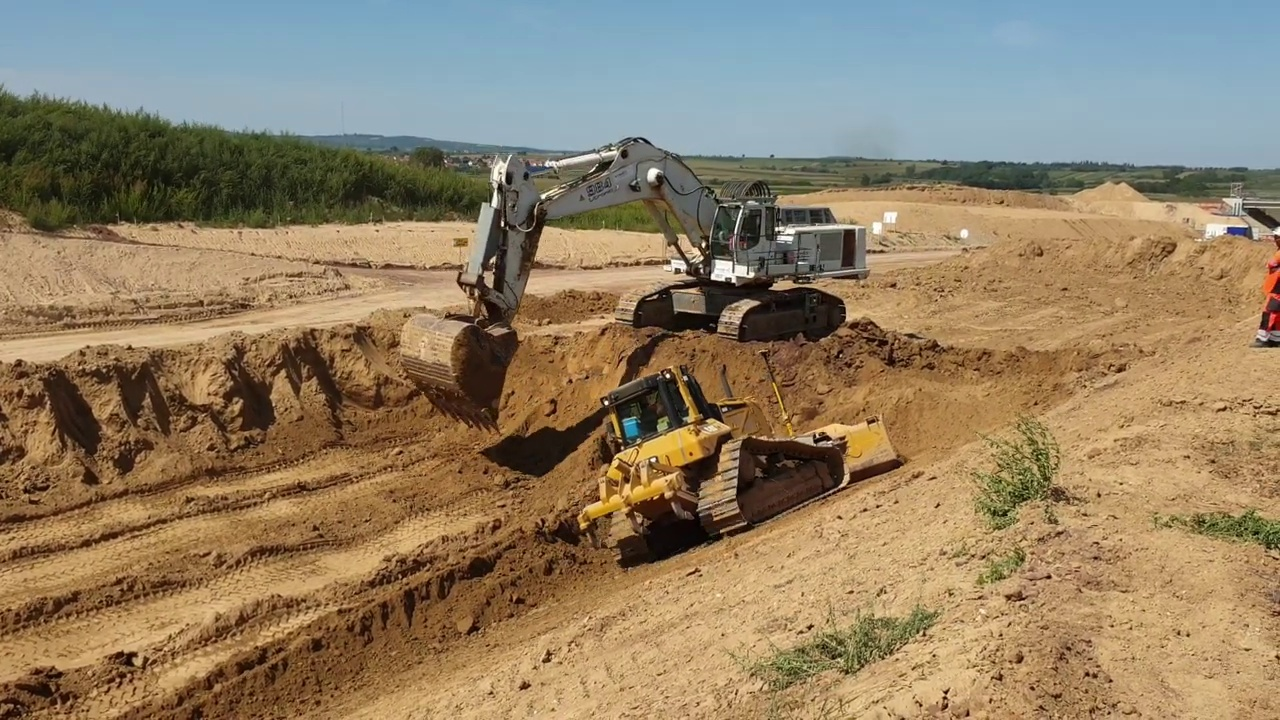bulldozer: (568, 347, 906, 567)
excavator: (397, 134, 878, 437)
worker: (1249, 220, 1280, 349)
